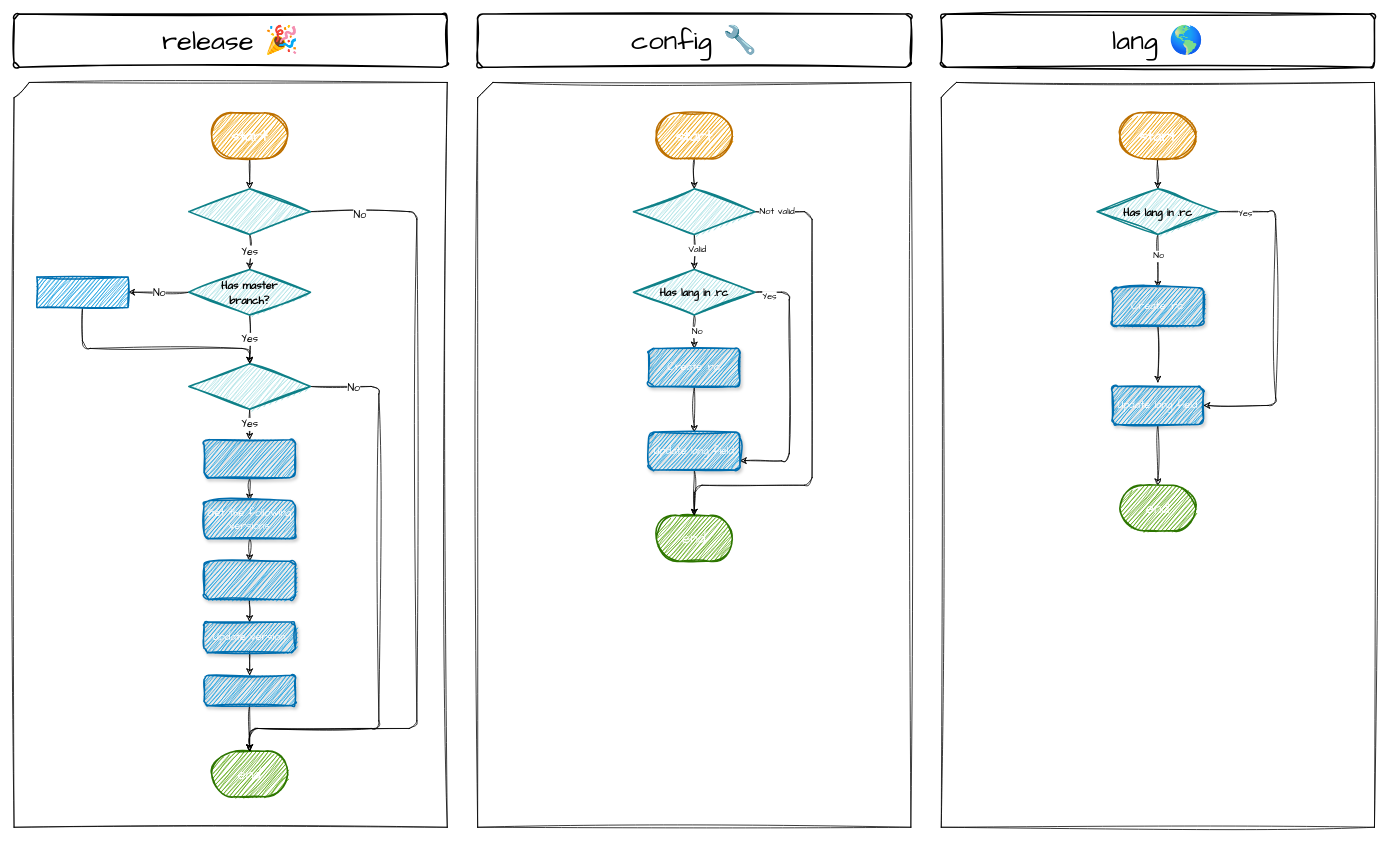
Image size: 1388x841. Some labels were removed from this diagram. Here are the shapes that lost their labels. From the top down, the centre of each, then its label:
point (249, 211): Is repo clean?
point (693, 211): Check config
point (82, 292): Get master name
point (249, 386): Has merged?
point (250, 459): Get the current version
point (250, 581): Input the release message
point (250, 691): Commit and push
